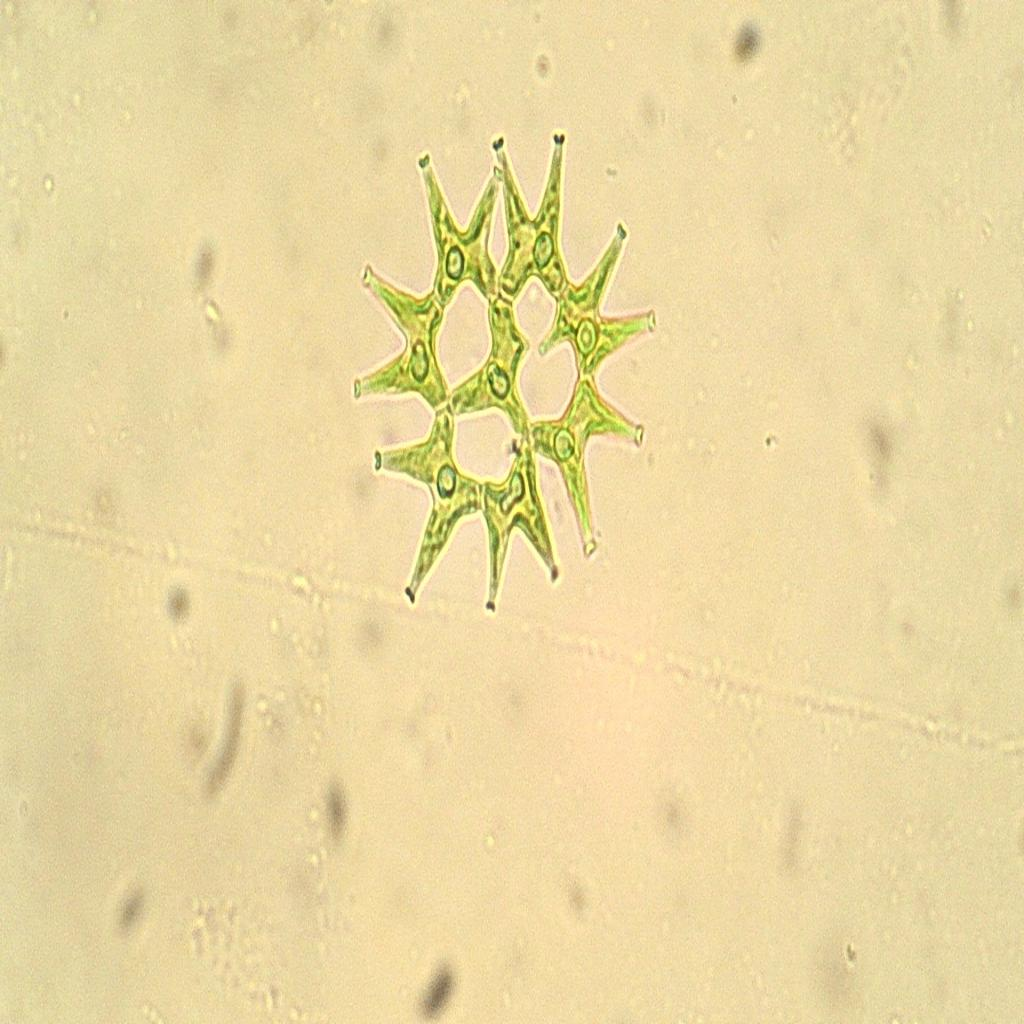Pediastrum_CTH: (345, 118, 669, 636)
